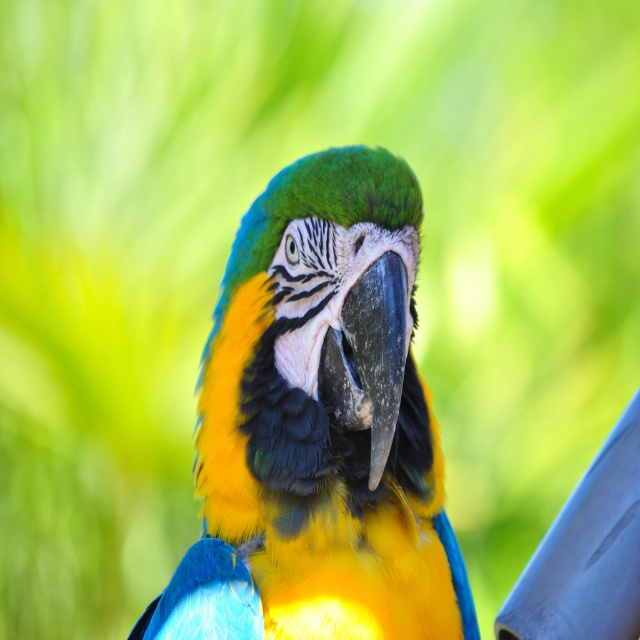Parrot: (128, 141, 482, 639)
